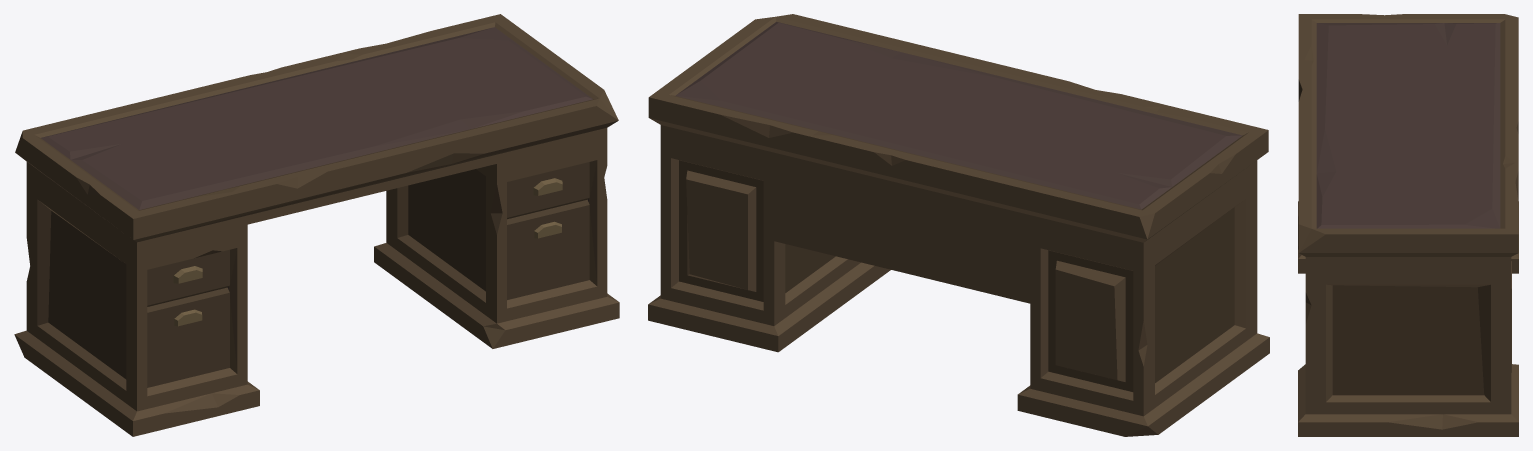
The model's file is SM_Prop_Desk_04.fbx.
The picture shows the model from 3 angles, left to right: view 1: azimuth 30°, elevation 25°; view 2: azimuth 150°, elevation 25°; view 3: azimuth 270°, elevation 25°; orthographic projection. The views are drawn at different scales.
Parts seen in each view (by area): view 1: SM_Prop_Desk_04; view 2: SM_Prop_Desk_04; view 3: SM_Prop_Desk_04.
Boxes of the visible parts, left/top/right/bottom form: SM_Prop_Desk_04: left=14, top=14, right=619, bottom=436; SM_Prop_Desk_04: left=648, top=14, right=1269, bottom=436; SM_Prop_Desk_04: left=1298, top=14, right=1518, bottom=436.
Bounding box in the file's own units: 217 × 92.48 × 91.43.
